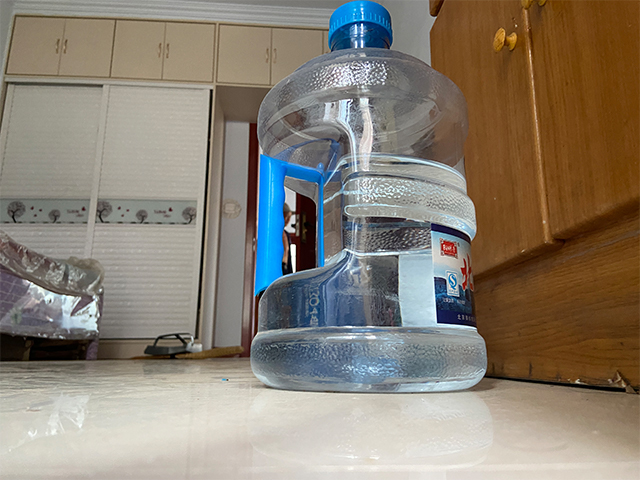bed: (1, 230, 107, 362)
cabinet: (429, 1, 640, 396), (1, 1, 216, 355)
